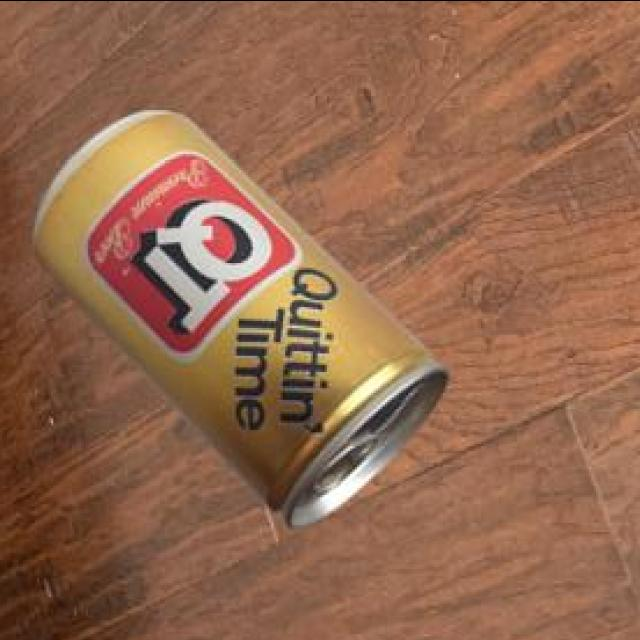logam: (29, 115, 444, 530)
